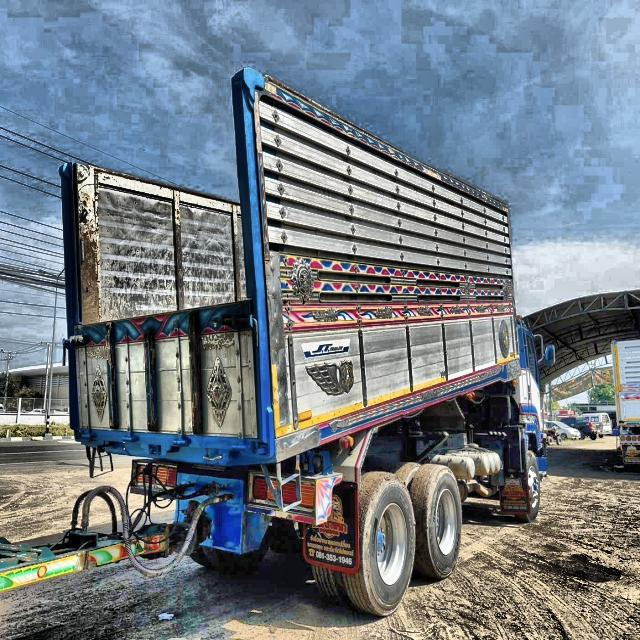trailer: (44, 58, 556, 620)
